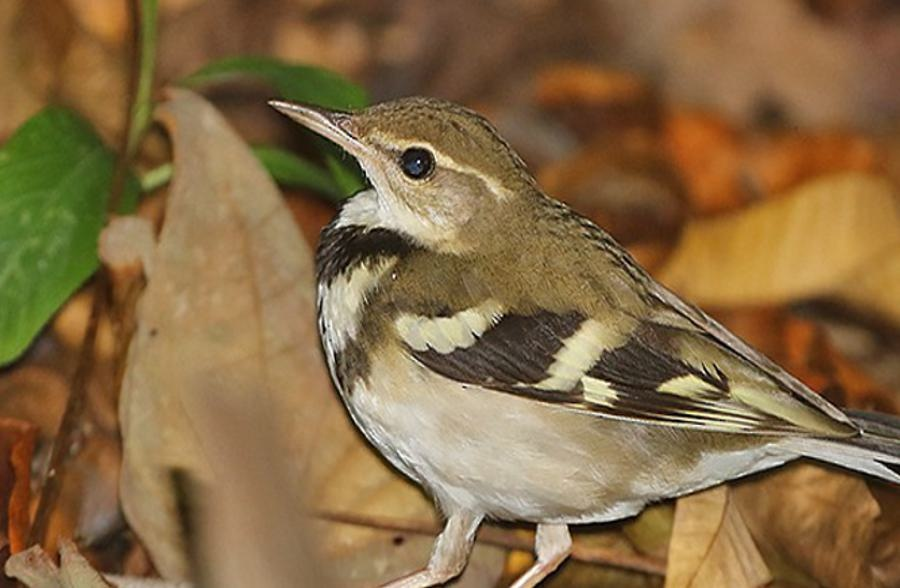wagtail: (265, 81, 900, 583)
